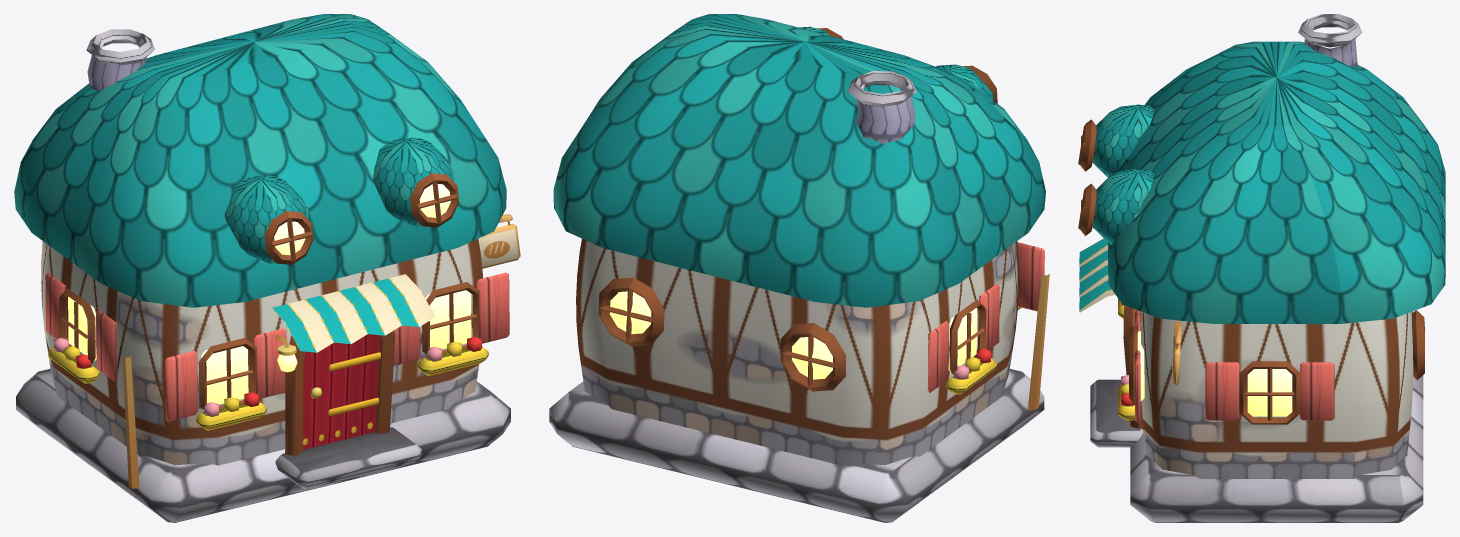
Rendered from house_0.glb.
3 views of the same model, side by side, from view 1: azimuth 30°, elevation 25°; view 2: azimuth 150°, elevation 25°; view 3: azimuth 270°, elevation 25° (orthographic). The views are drawn at different scales.
Parts seen in each view (by area): view 1: house_0; view 2: house_0; view 3: house_0.
Part boxes in pixels (x1=…): house_0: x1=14, y1=14, x2=520, y2=522; house_0: x1=549, y1=14, x2=1049, y2=522; house_0: x1=1078, y1=14, x2=1445, y2=522.
Bounding box in the file's own units: 6.48 × 6.2 × 5.52.
4 materials, 4 textured.
